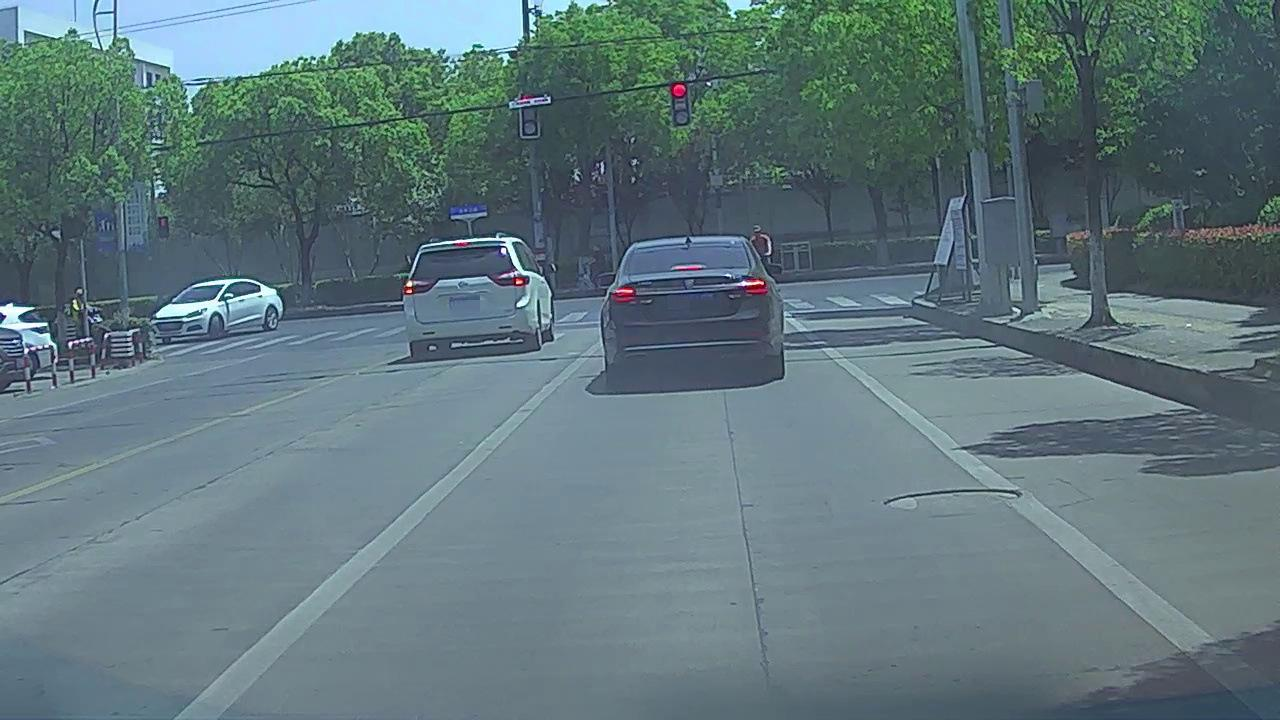traffic_light: (520, 92, 541, 138), (672, 85, 690, 125)
